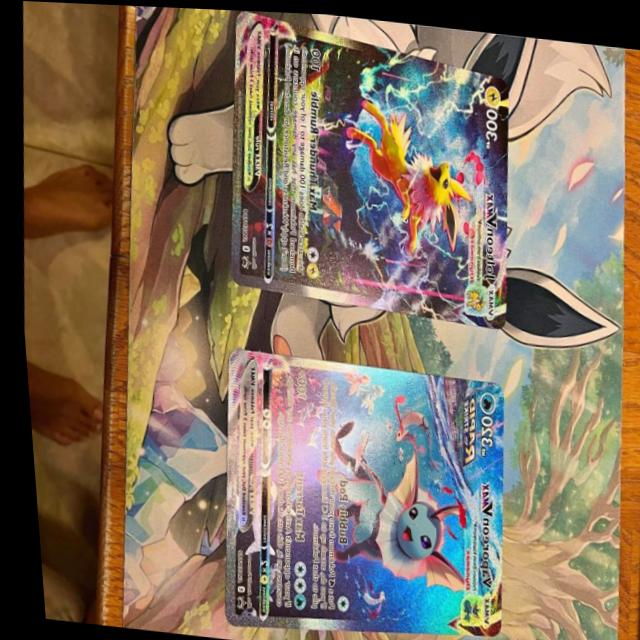card: (224, 8, 508, 326), (213, 346, 498, 634)
